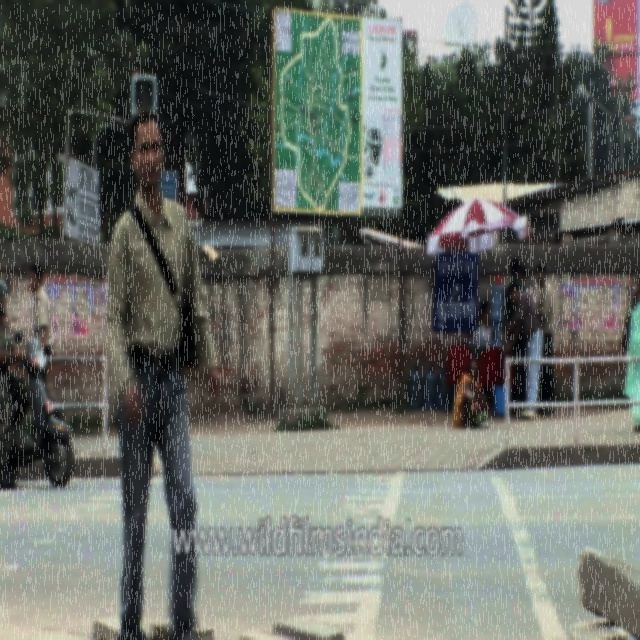pessoa: (100, 105, 224, 640), (0, 277, 32, 492), (499, 280, 544, 420), (504, 254, 530, 416), (532, 260, 555, 418), (619, 268, 640, 434), (27, 261, 54, 390), (449, 354, 492, 429), (473, 298, 493, 346), (518, 263, 534, 297)
